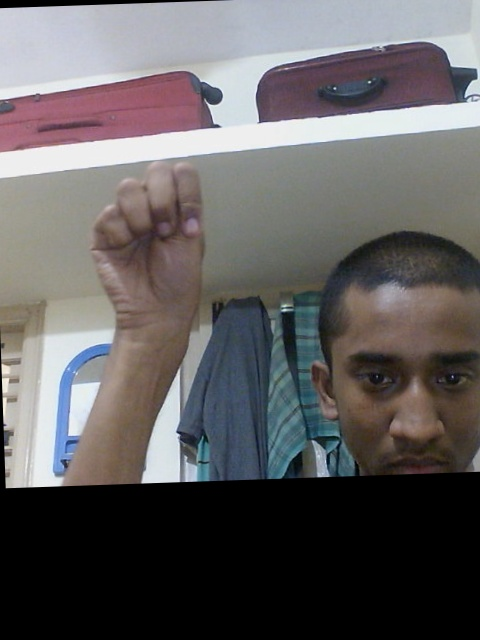hand: (87, 158, 210, 336)
